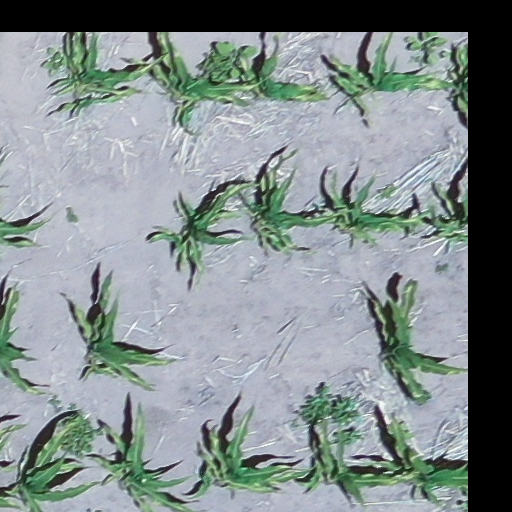planta: (129, 33, 274, 136), (65, 271, 181, 390), (146, 182, 263, 289), (188, 406, 313, 499), (339, 416, 467, 504), (375, 281, 466, 404), (328, 33, 456, 120), (298, 418, 416, 510), (243, 148, 342, 253), (46, 32, 162, 116), (328, 167, 431, 245), (236, 33, 327, 103), (423, 182, 467, 254)
